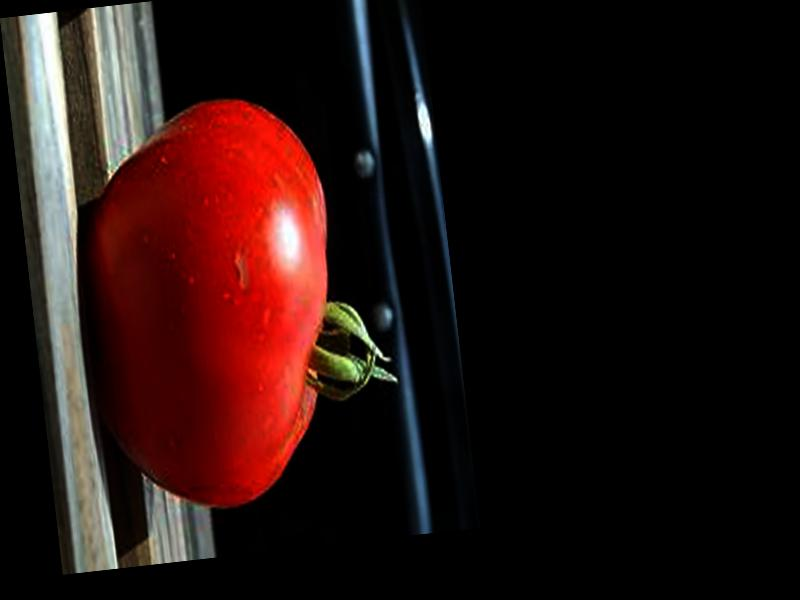Tomato: (68, 83, 407, 519)
